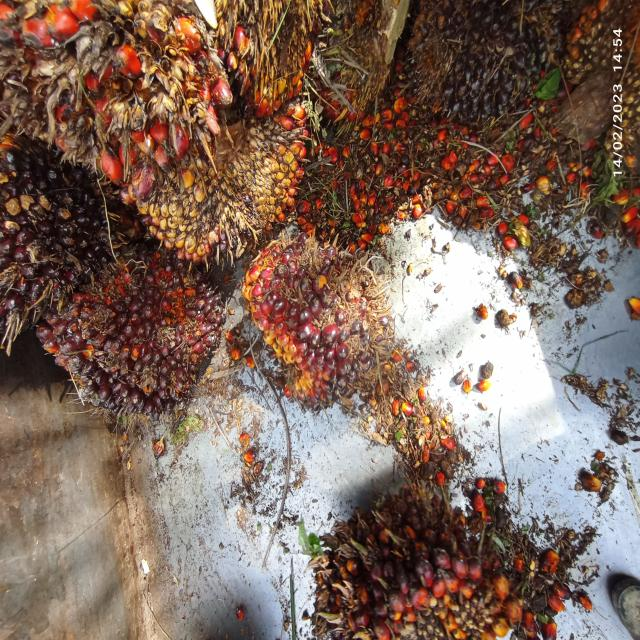fraksi 00: (301, 472, 530, 640), (411, 0, 570, 134)
fraksi 1: (40, 233, 236, 435), (242, 210, 397, 432)
